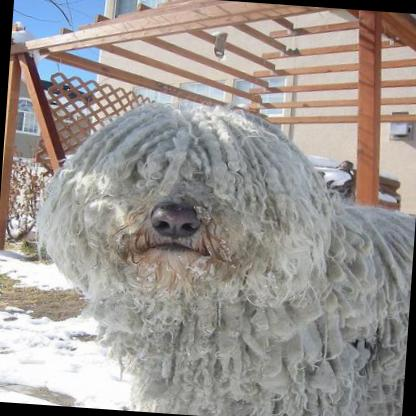komondor: (20, 92, 416, 416)
